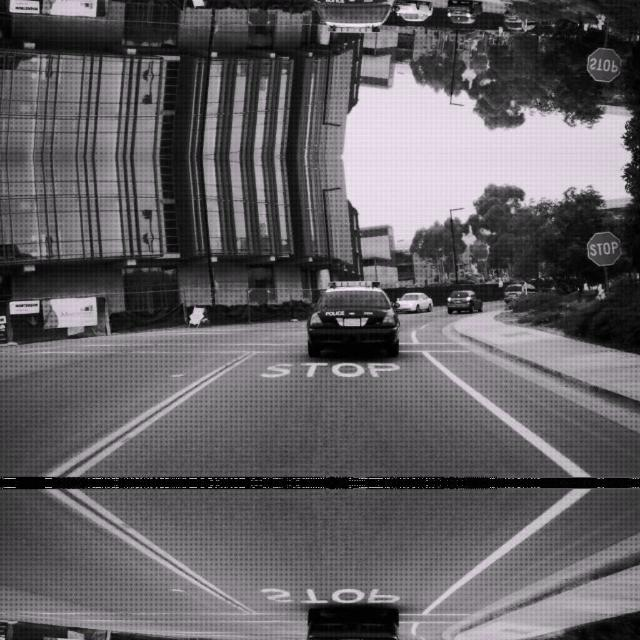stop: (586, 230, 622, 264), (586, 48, 622, 82)
